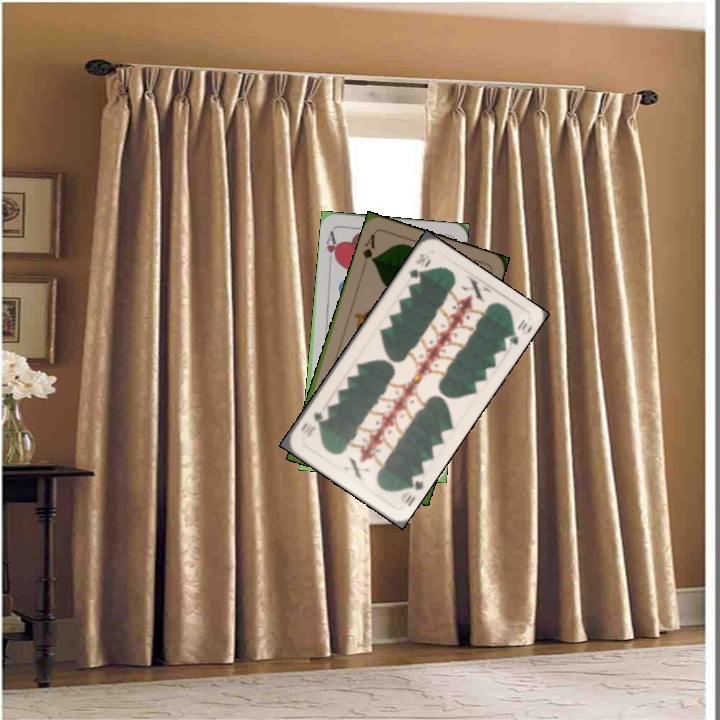G10: (399, 471, 426, 509), (405, 249, 429, 281)
GA: (358, 230, 378, 269)
HA: (322, 226, 341, 264)
